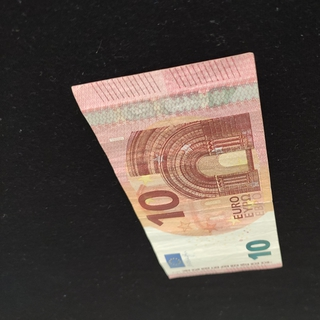10EUROFront: (71, 51, 283, 279)
